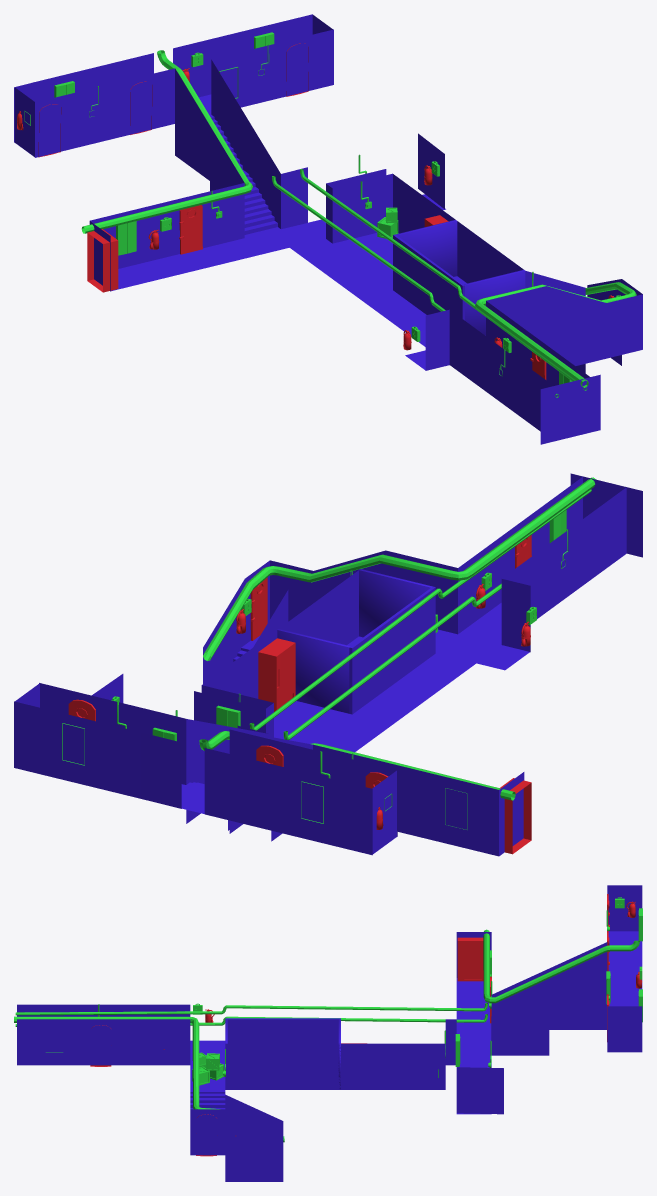
Rendered from SM_gangstelsel.fbx.
3 views of the same model, one above another, from view 1: azimuth 30°, elevation 25°; view 2: azimuth 150°, elevation 25°; view 3: azimuth 270°, elevation 25° (orthographic). The views are drawn at different scales.
Visible parts, largest first — view 1: MurenUV_Done, GrondIUV_done, TubeBrugUV, tubeDoodlopendUV, deuren_UV, automaat_UV.001, NoodKast_UV, TubeSmallUV.001, TubeSmallUV, brandbluser_UV, healthbox_UV; view 2: MurenUV_Done, GrondIUV_done, tubeDoodlopendUV, automaat_UV.001, deuren_UV, TubeSmallUV.001, NoodKast_UV, TubeSmallUV, TubeBrugUV, brandbluser_UV, healthbox_UV; view 3: MurenUV_Done, GrondIUV_done, TubeSmallUV, TubeBrugUV, tubeDoodlopendUV, automaat_UV.001, TubeSmallUV.001, Dozen_UV, NoodKast_UV.
Boxes of the visible parts, box(x1,y1,x2,y2) form: MurenUV_Done: box(14, 14, 642, 444); GrondIUV_done: box(21, 94, 466, 370); TubeBrugUV: box(81, 50, 252, 233); tubeDoodlopendUV: box(475, 282, 636, 387); deuren_UV: box(38, 43, 625, 379); automaat_UV.001: box(87, 215, 448, 292); NoodKast_UV: box(54, 32, 571, 384); TubeSmallUV.001: box(300, 169, 587, 390); TubeSmallUV: box(272, 176, 558, 397); brandbluser_UV: box(17, 68, 614, 350); healthbox_UV: box(24, 52, 620, 352); MurenUV_Done: box(14, 473, 642, 856); GrondIUV_done: box(181, 603, 529, 854); tubeDoodlopendUV: box(203, 477, 595, 660); automaat_UV.001: box(258, 638, 531, 854); deuren_UV: box(68, 535, 531, 788); TubeSmallUV.001: box(249, 489, 591, 730); NoodKast_UV: box(62, 510, 566, 829); TubeSmallUV: box(283, 583, 501, 739); TubeBrugUV: box(199, 731, 515, 800); brandbluser_UV: box(236, 583, 530, 829); healthbox_UV: box(111, 572, 536, 811); MurenUV_Done: box(17, 885, 642, 1181); GrondIUV_done: box(190, 931, 642, 1114); TubeSmallUV: box(15, 1002, 487, 1015); TubeBrugUV: box(483, 929, 639, 1003); tubeDoodlopendUV: box(14, 1016, 284, 1142); automaat_UV.001: box(341, 937, 483, 1043); TubeSmallUV.001: box(15, 1014, 487, 1026); Dozen_UV: box(192, 1052, 438, 1085); NoodKast_UV: box(46, 908, 642, 1066).
Size of the model in its own units: 1584 by 735 by 2718.
